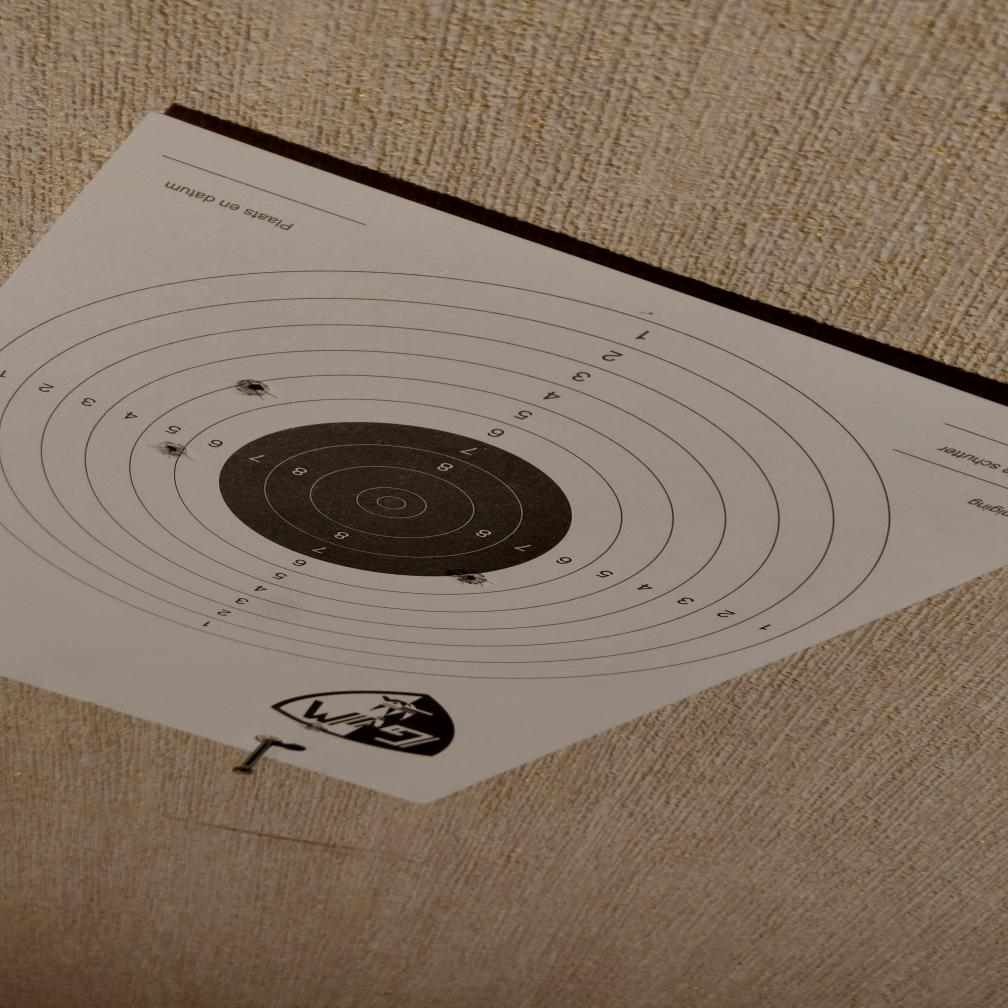5: (228, 379, 278, 400)
6: (147, 440, 192, 460)
7: (446, 568, 493, 587)
Target: (0, 269, 895, 682)
black_contour: (216, 423, 568, 575)
